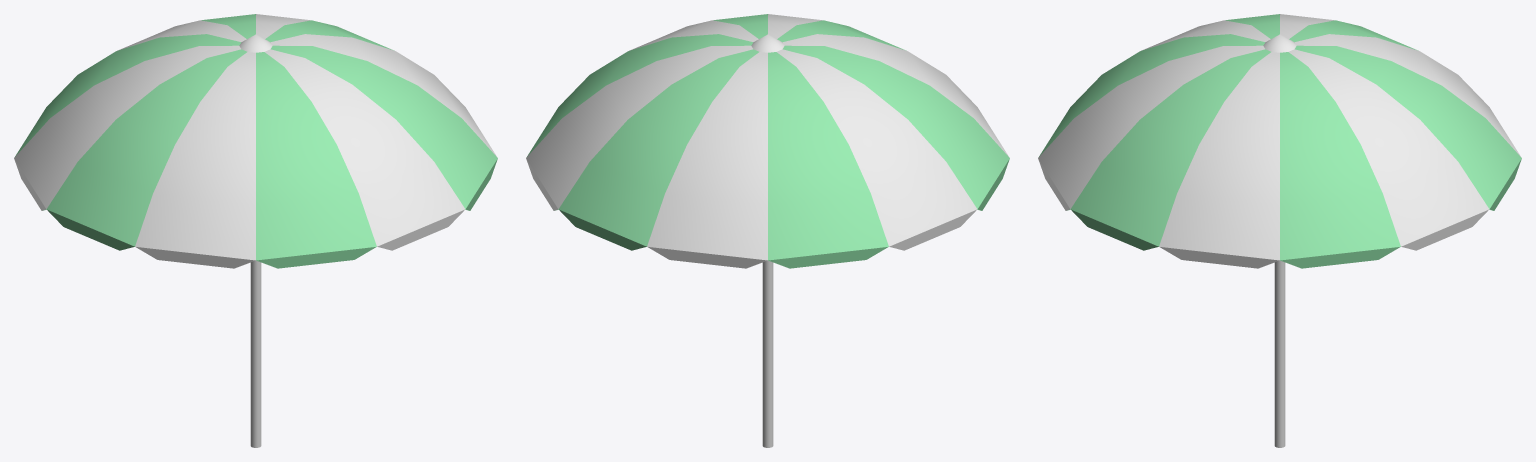
The model's file is beach Umbrella.fbx.
The picture shows the model from 3 angles, left to right: view 1: azimuth 30°, elevation 25°; view 2: azimuth 150°, elevation 25°; view 3: azimuth 270°, elevation 25°; orthographic projection.
Parts seen in each view (by area): view 1: Sphere, Cylinder; view 2: Sphere, Cylinder; view 3: Sphere, Cylinder.
Boxes of the visible parts, left/top/right/bottom form: Sphere: left=14, top=14, right=497, bottom=268; Cylinder: left=250, top=260, right=261, bottom=447; Sphere: left=526, top=14, right=1009, bottom=268; Cylinder: left=762, top=260, right=773, bottom=447; Sphere: left=1038, top=14, right=1521, bottom=268; Cylinder: left=1274, top=260, right=1285, bottom=447.
Size of the model in its own units: 1043 by 979 by 1043.
